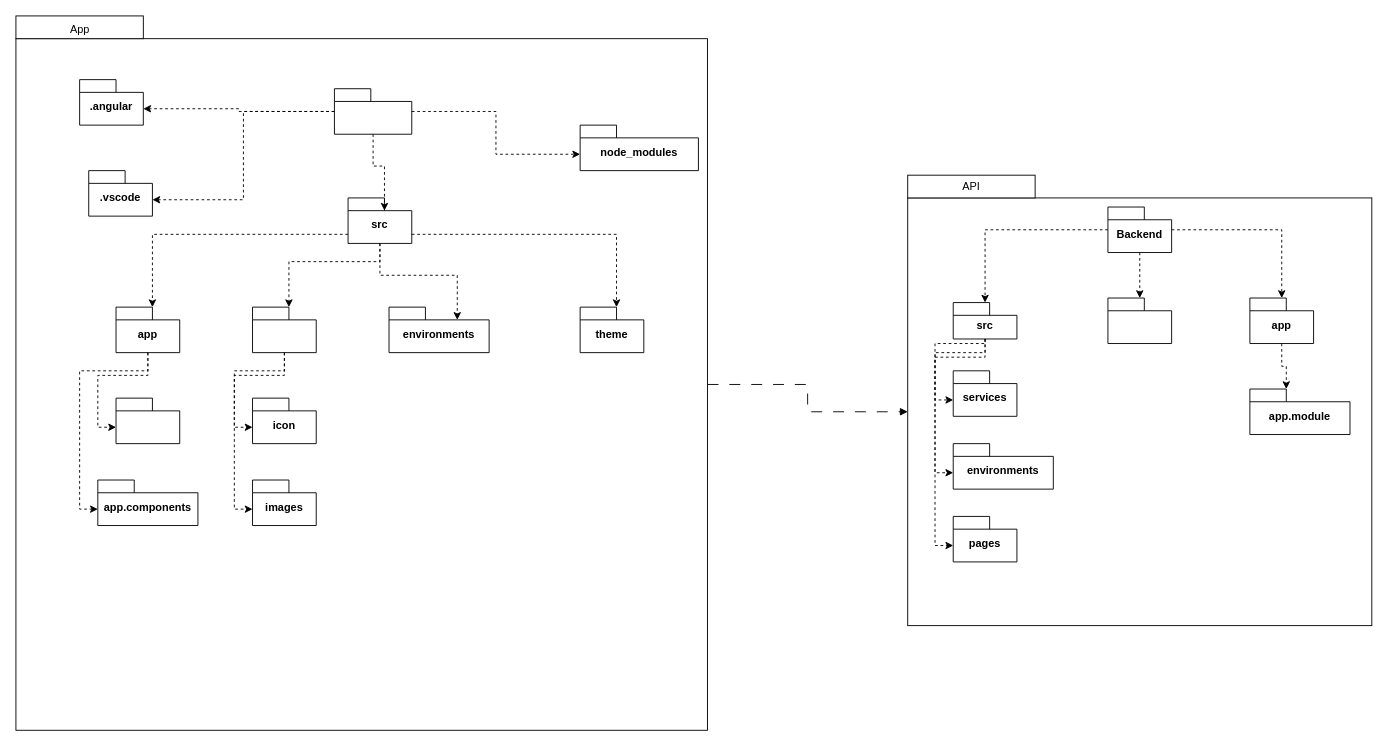
Some shapes in this 1388 by 746 pixel diagram are drawn without their labels. The centre of each missing label's shape, as x and y in pixels:
"assets" belongs at pixel 284 329.
"firebase" belongs at pixel 1139 320.
"Frontend" belongs at pixel 373 111.
"home" belongs at pixel 147 420.
